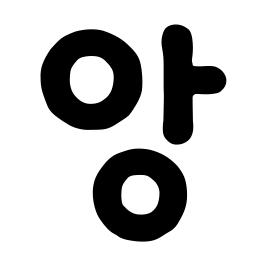Gaji: (151, 56, 211, 109)
